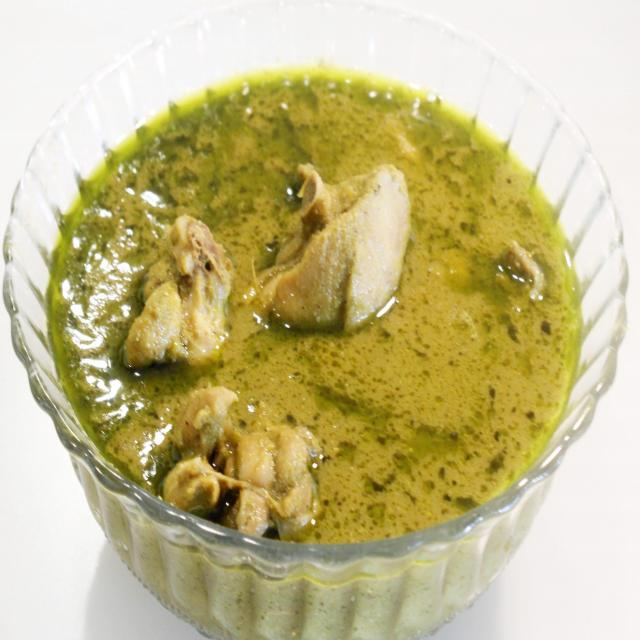chicken: (49, 57, 629, 563)
